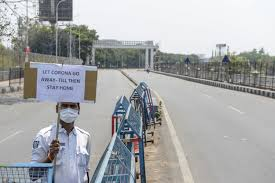mask: (56, 98, 81, 125)
